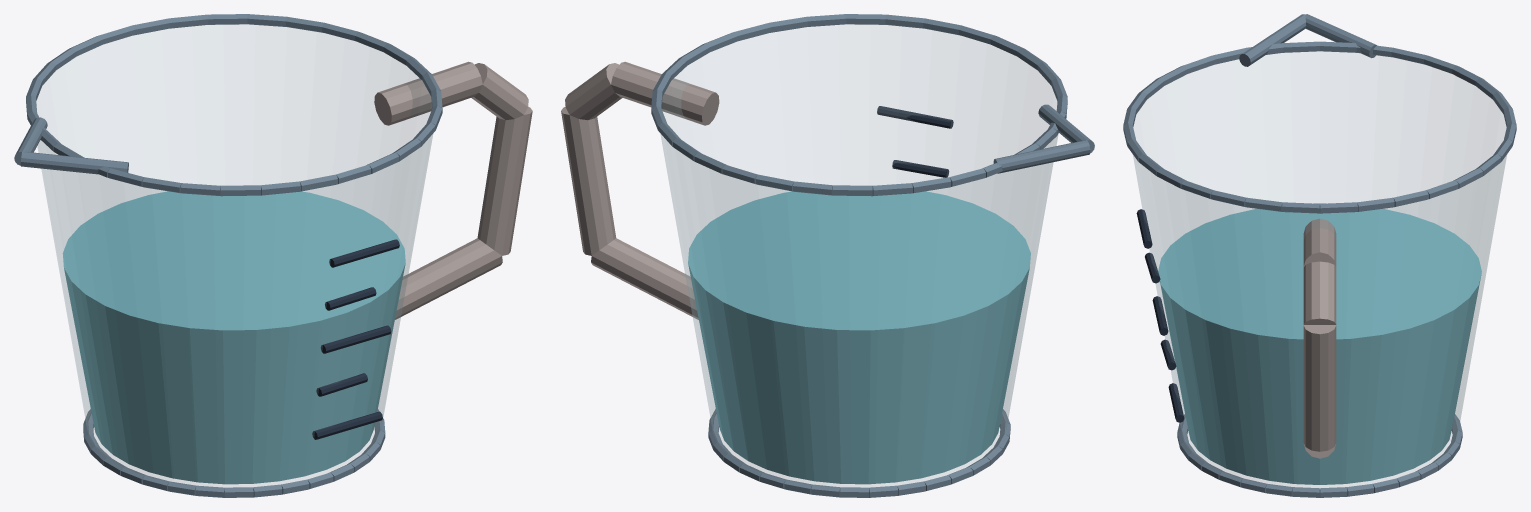
The model's file is jug.glb.
The picture shows the model from 3 angles, left to right: view 1: azimuth 30°, elevation 25°; view 2: azimuth 150°, elevation 25°; view 3: azimuth 270°, elevation 25°; orthographic projection. The views are drawn at different scales.
Visible parts, largest first — view 1: glass wall, liquid, handle2, handle3, handle0, handle1, pour lip0, tick 4, tick 2, tick 0, pour lip1; view 2: glass wall, liquid, handle2, handle3, handle0, handle1, pour lip1, pour lip0, tick 4; view 3: glass wall, liquid, handle2, handle1, handle0, pour lip0, pour lip1.
Boxes of the visible parts, x1,y1,x2,y2 form: glass wall: (37,25,432,487); liquid: (62,191,405,484); handle2: (477,107,532,255); handle3: (395,238,502,319); handle0: (374,61,482,125); handle1: (471,63,528,120); pour lip0: (20,151,128,174); tick 4: (329,239,399,267); tick 2: (320,325,391,353); tick 0: (312,411,382,439); pour lip1: (14,117,47,165); glass wall: (660,25,1058,487); liquid: (688,191,1030,484); handle2: (561,106,616,255); handle3: (591,238,698,319); handle0: (611,61,719,125); handle1: (565,63,622,120); pour lip1: (993,140,1090,173); pour lip0: (1038,104,1094,152); tick 4: (877,106,953,128); glass wall: (1133,52,1506,488); liquid: (1158,203,1481,484); handle2: (1303,325,1336,451); handle1: (1303,261,1336,324); handle0: (1303,218,1336,266); pour lip0: (1239,14,1306,66); pour lip1: (1305,14,1376,58).
Bounding box in the file's own units: 1.89 × 1.19 × 1.31.
